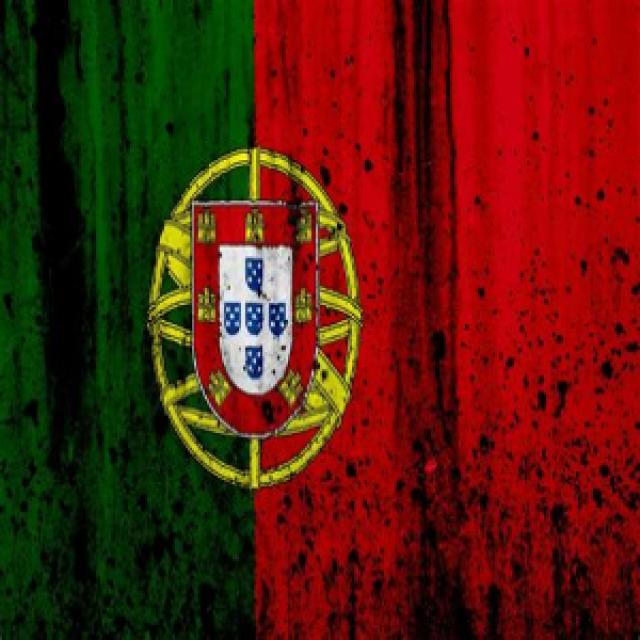portugal: (10, 3, 640, 640)
